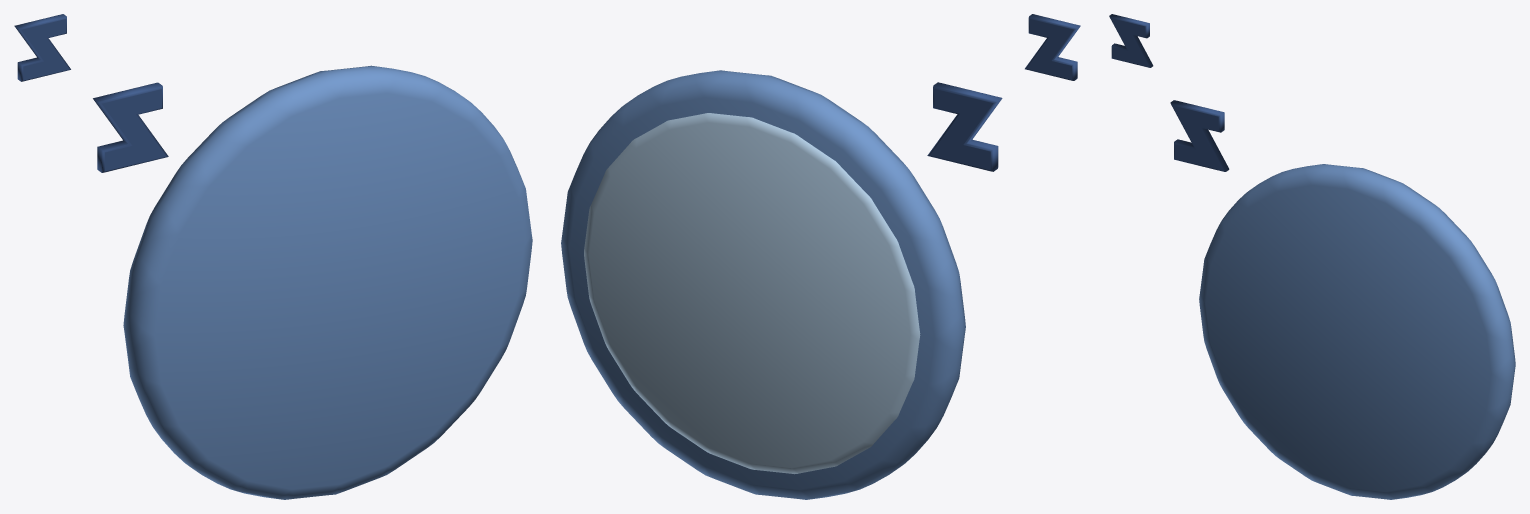
Rendered from SleepBubble.fbx.
3 renders of one model, left to right at view 1: azimuth 30°, elevation 25°; view 2: azimuth 150°, elevation 25°; view 3: azimuth 330°, elevation 25°, orthographic. The views are drawn at different scales.
Visible parts, largest first — view 1: SleepBubble; view 2: SleepBubble; view 3: SleepBubble.
Part boxes in pixels (x1,y1,x2,y2): SleepBubble: (14, 14, 532, 499); SleepBubble: (561, 14, 1080, 499); SleepBubble: (1109, 14, 1515, 499).
Bounding box in the file's own units: 1.28 × 1.3 × 0.11.
Materials: 1 (1 with a texture image).
